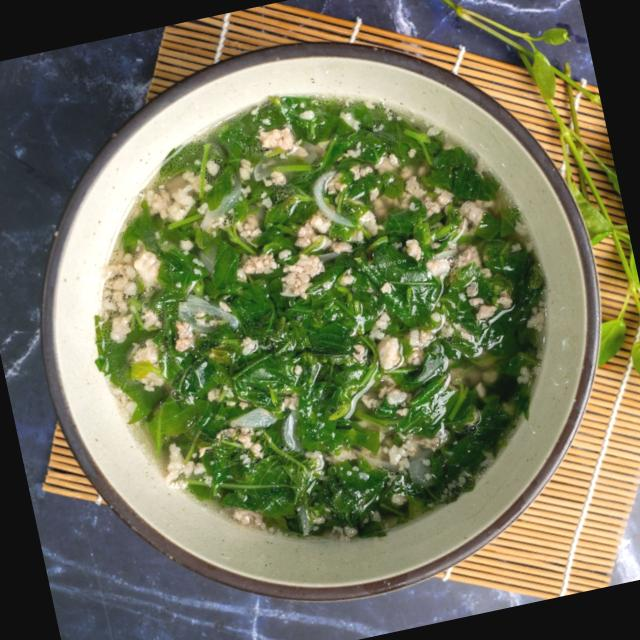canh cai: (94, 95, 550, 539)
